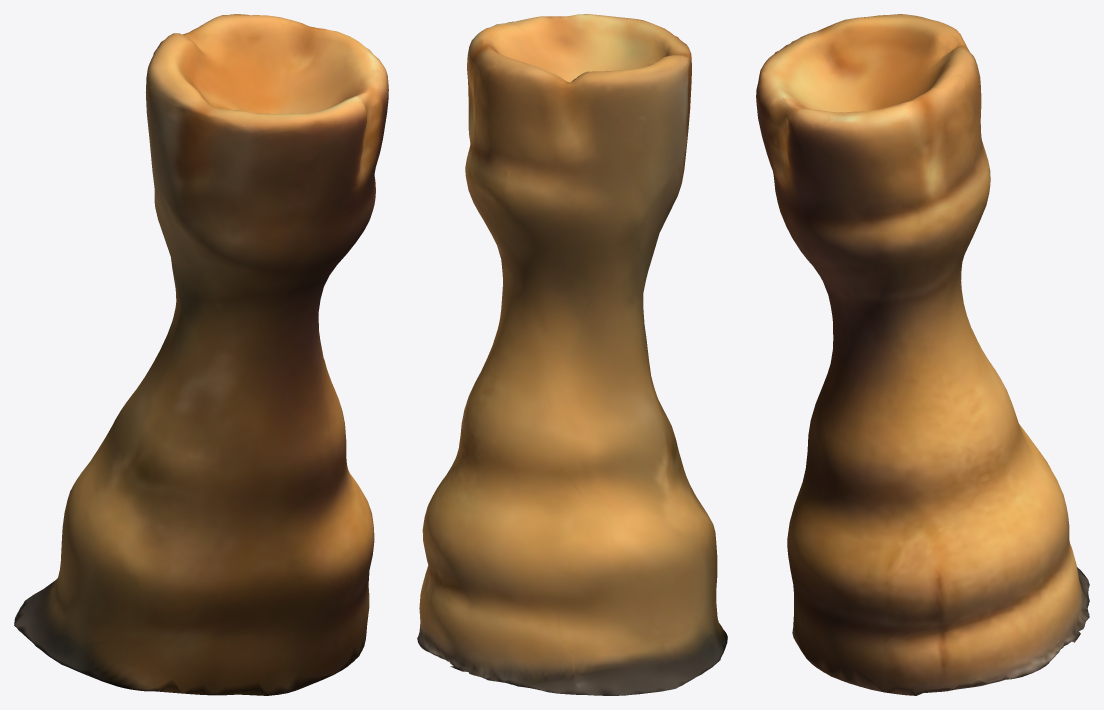
The model's file is candidate_b_top_q99.obj.
3 renders of one model, left to right at view 1: azimuth 30°, elevation 25°; view 2: azimuth 150°, elevation 25°; view 3: azimuth 270°, elevation 25°, orthographic. The views are drawn at different scales.
Visible parts, largest first — view 1: 3DModel; view 2: 3DModel; view 3: 3DModel.
Part boxes in pixels (x1,y1,x2,y2): 3DModel: (14,14,388,695); 3DModel: (417,14,727,695); 3DModel: (756,14,1089,695).
Size of the model in its own units: 0.1411 by 0.2731 by 0.1401.
1 material, 1 textured.
